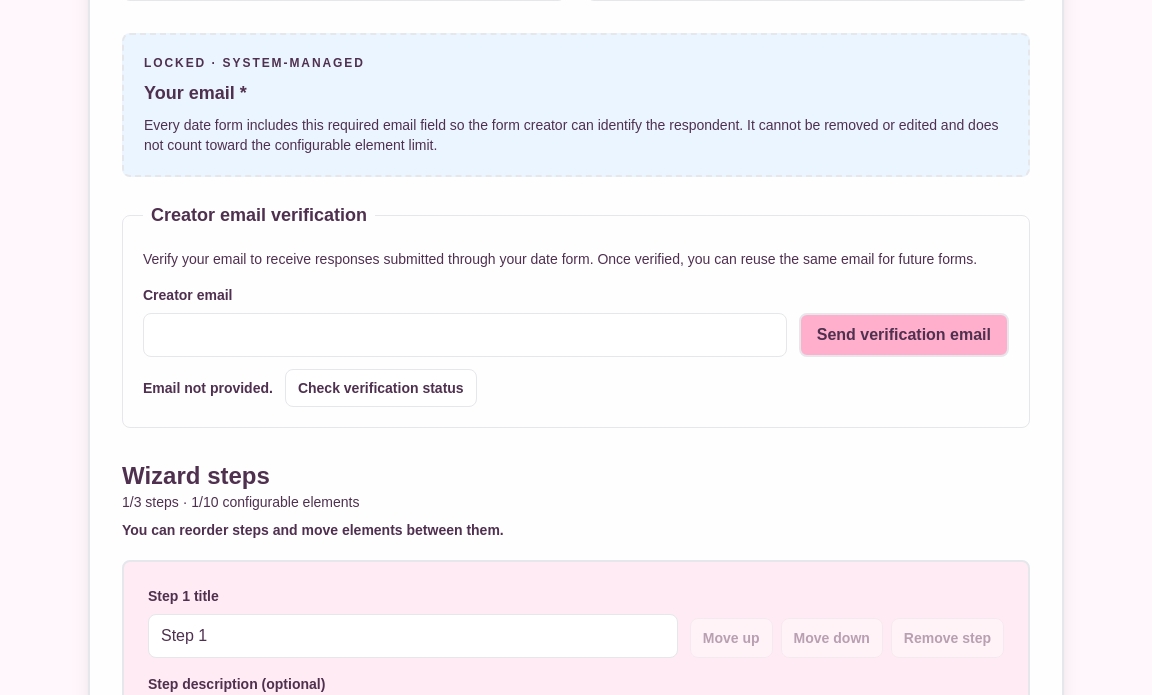
creator verification and publication › sends verification once and enforces the resend cooldown
(page scrolled)
expect the text "Email not provided." is shown: met, box [143,378,273,398]
Type "creator@example.com" into the field labelled "Creator email" at [465, 335], box [143,313,787,357]
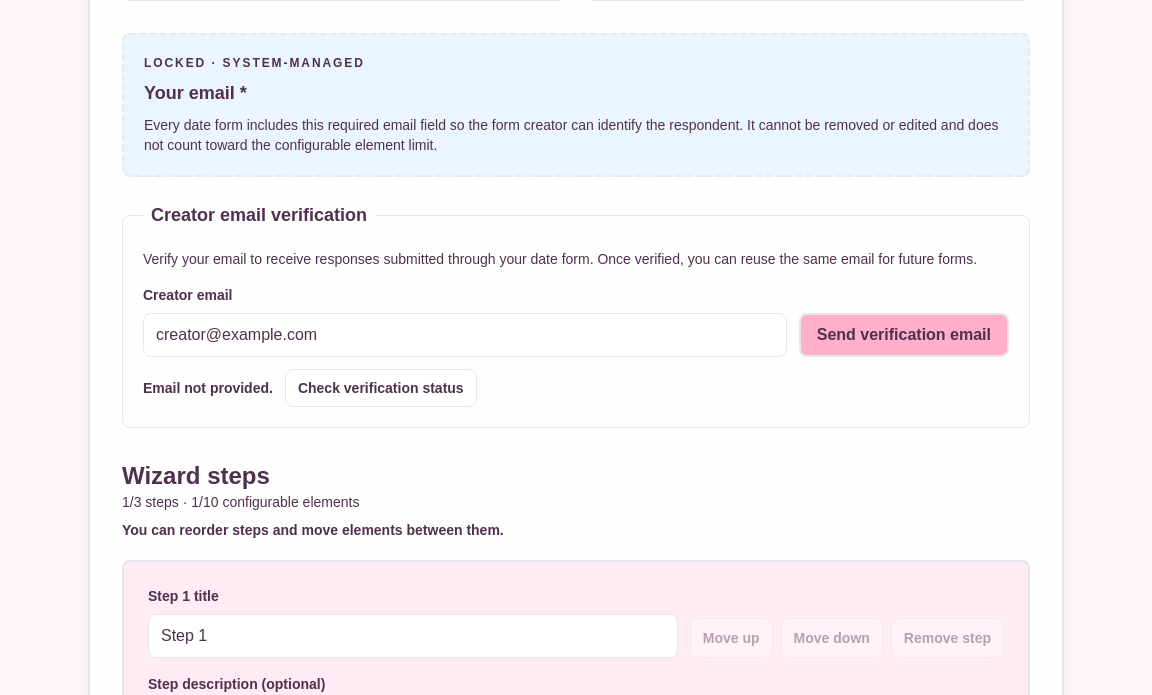
Click the button "Send verification email" at [904, 335], box [799,313,1009,357]
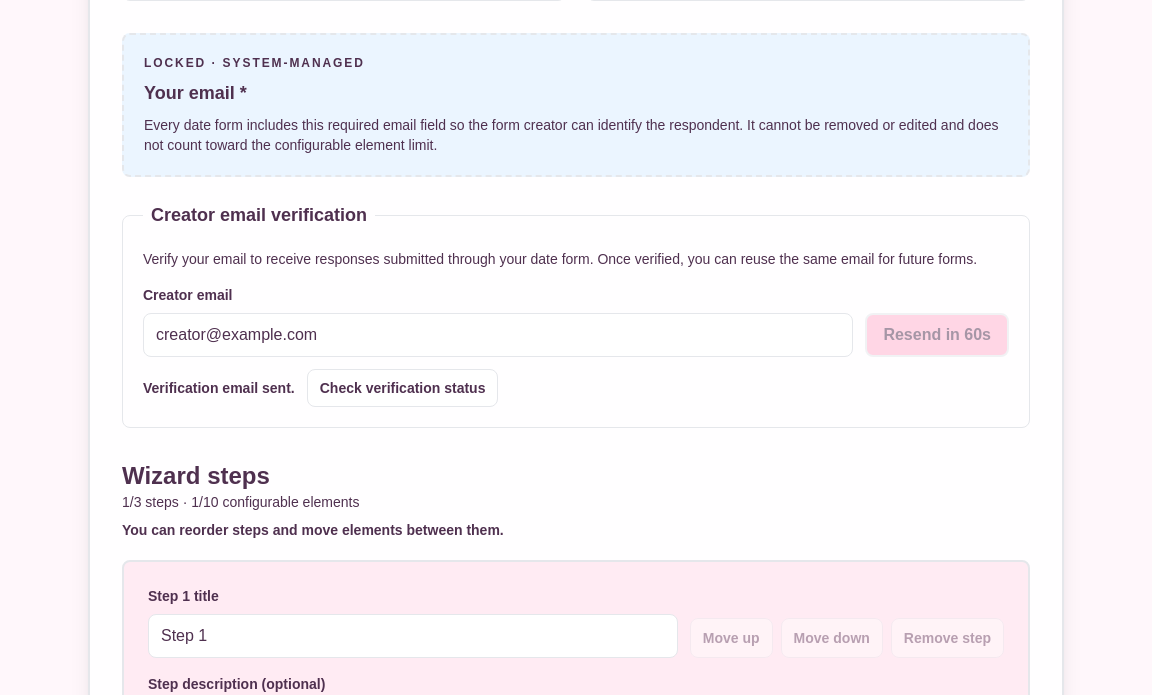
expect the button "Resend in 60s" is disabled: met, box [865,313,1009,357]
